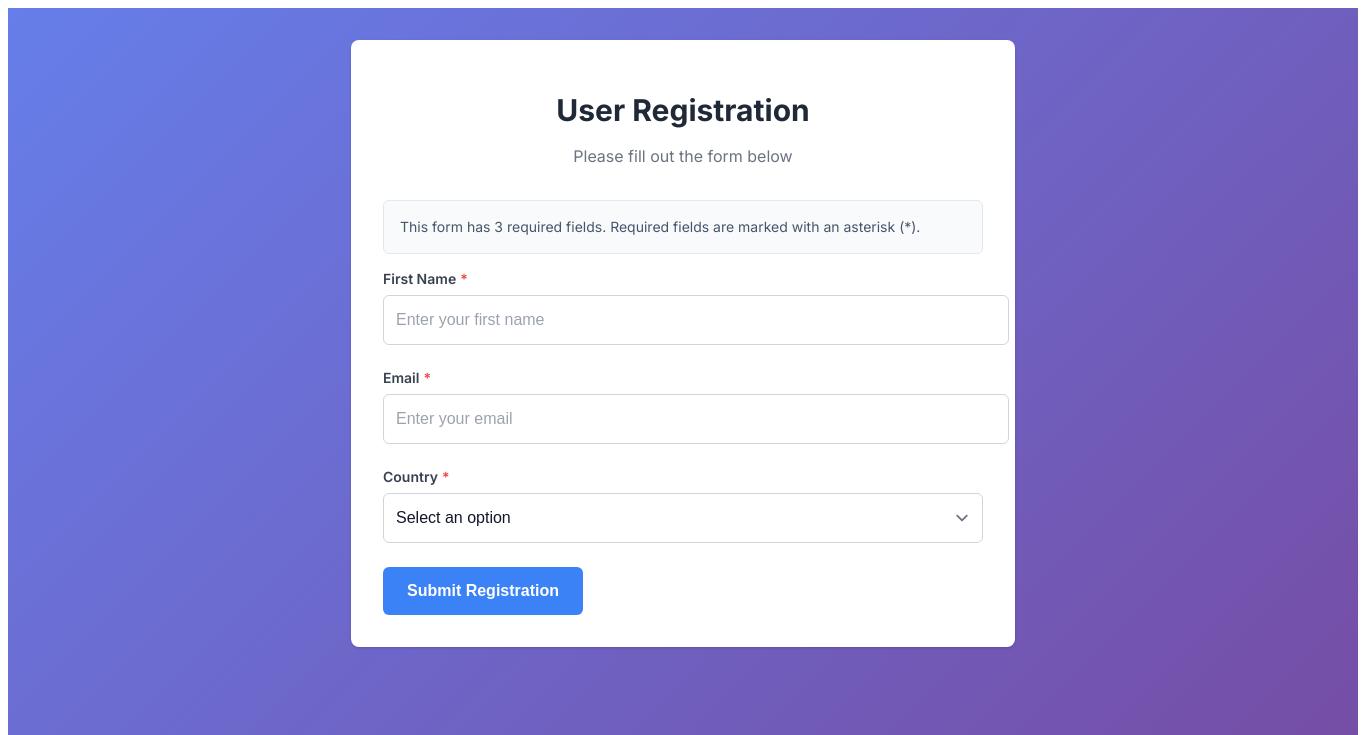
Test: End-to-End Tests › complete flow: config fetch → render → fill form → submit
Check: the heading "User Registration" is shown, box [556, 92, 810, 128]
In the field labelled "First Name*": (696, 320) [383, 295, 1009, 345], type "John"
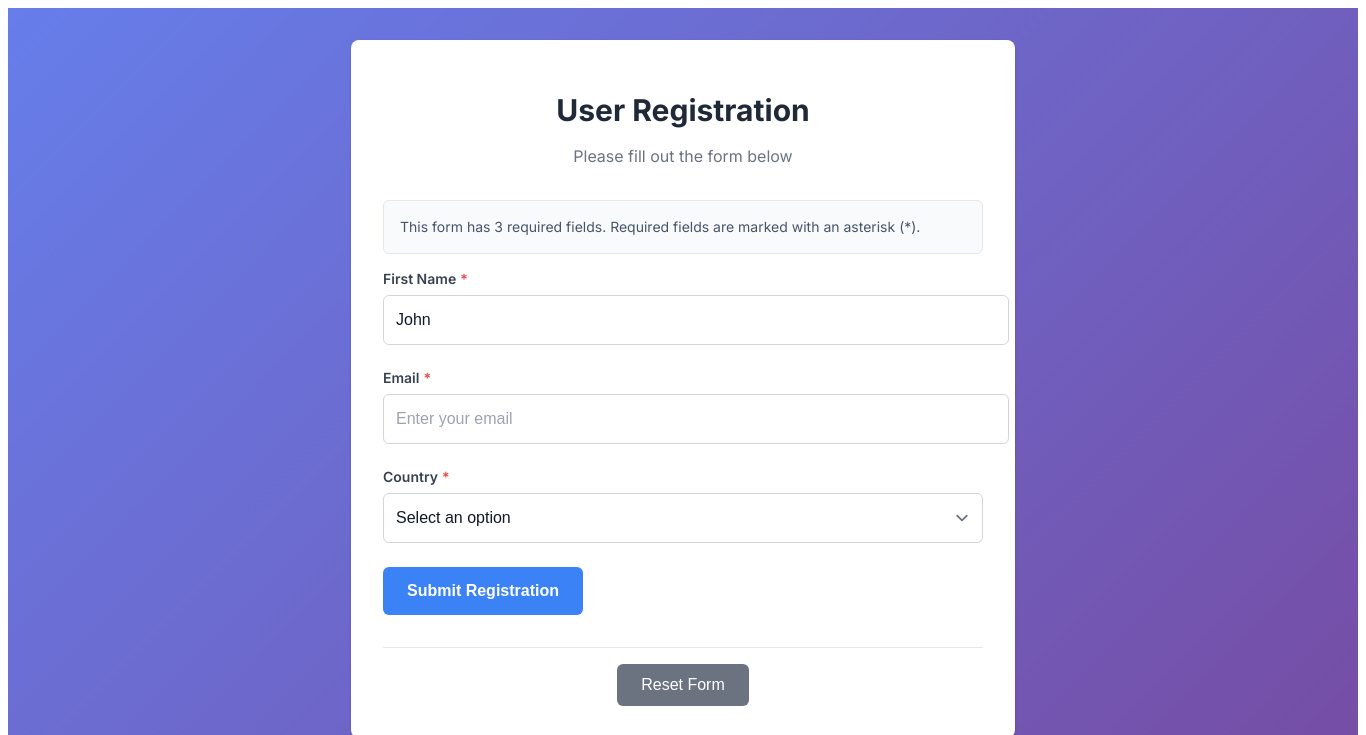
In the field labelled "Email*": (696, 419) [383, 394, 1009, 444], type "john@example.com"
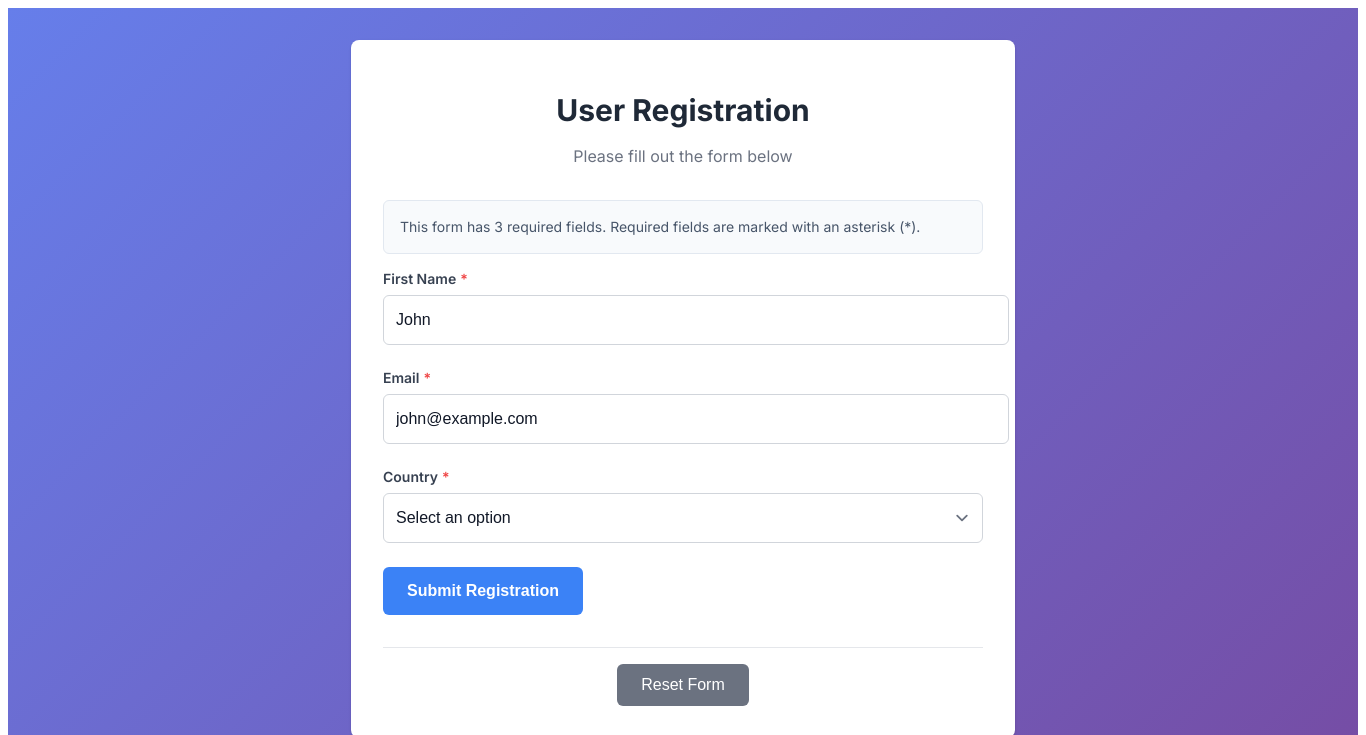
Select "United States" in the dropdown labelled "Country*": (683, 518) [383, 493, 983, 543]
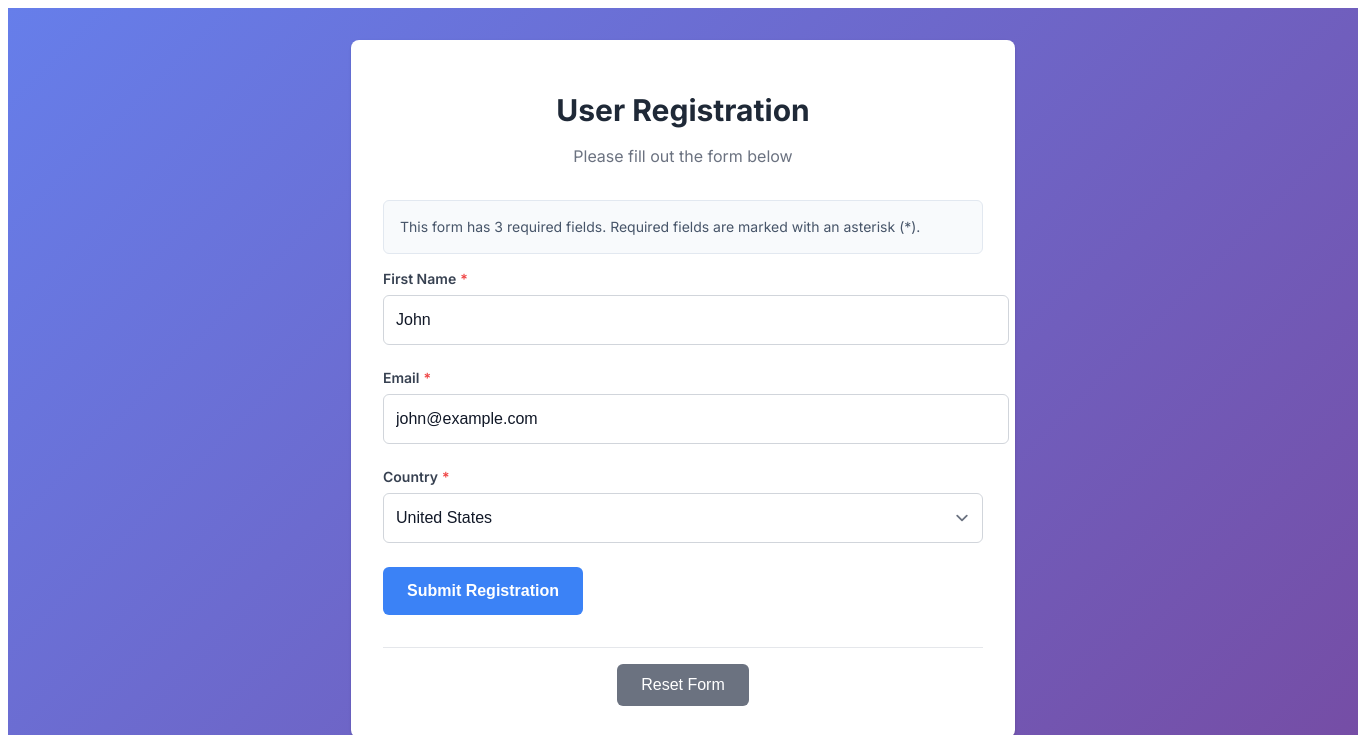
Click the button "Submit Registration": click(483, 591) [383, 567, 583, 615]
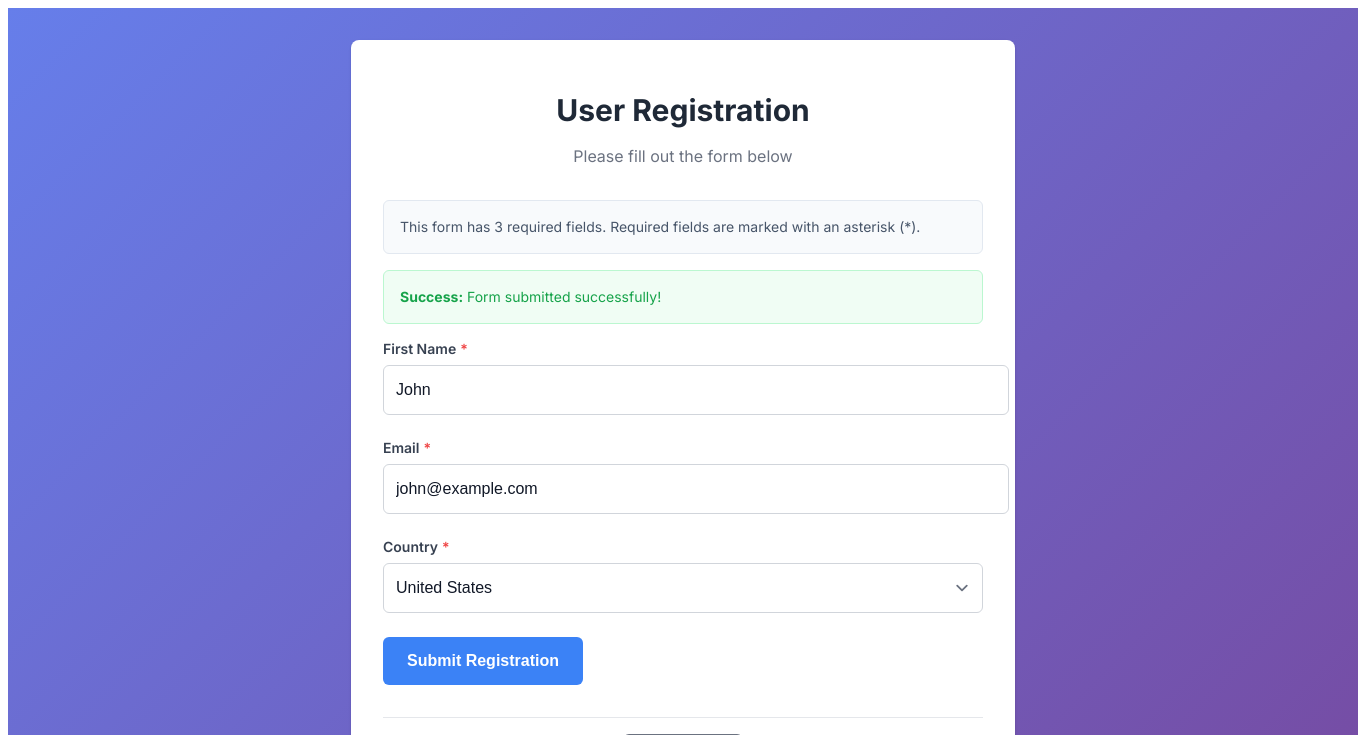
Check: the text "Form submitted successfully!" is shown, box [467, 288, 661, 305]
